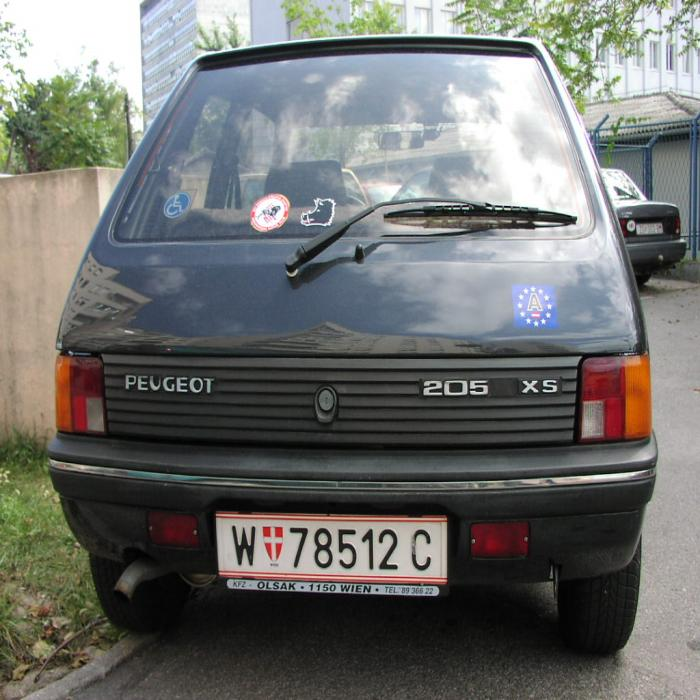number_plate: (214, 516, 446, 577)
